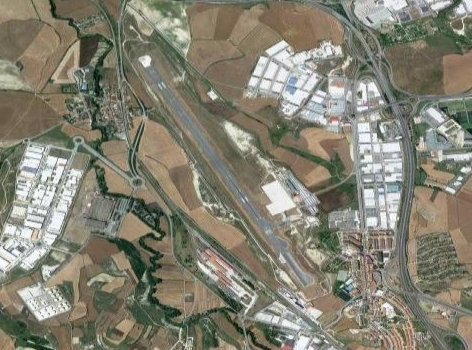airport: (137, 53, 315, 288)
industrial: (1, 142, 76, 272), (248, 38, 349, 125), (351, 103, 402, 239)
motorway: (343, 20, 384, 65), (81, 144, 128, 179), (410, 307, 448, 350), (414, 291, 472, 315), (397, 219, 412, 305), (401, 137, 416, 222), (375, 64, 402, 100), (386, 99, 413, 135), (306, 1, 351, 22), (420, 90, 472, 104)
train_station: (195, 249, 254, 304)
